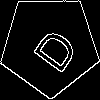D: (25, 20, 80, 76)
